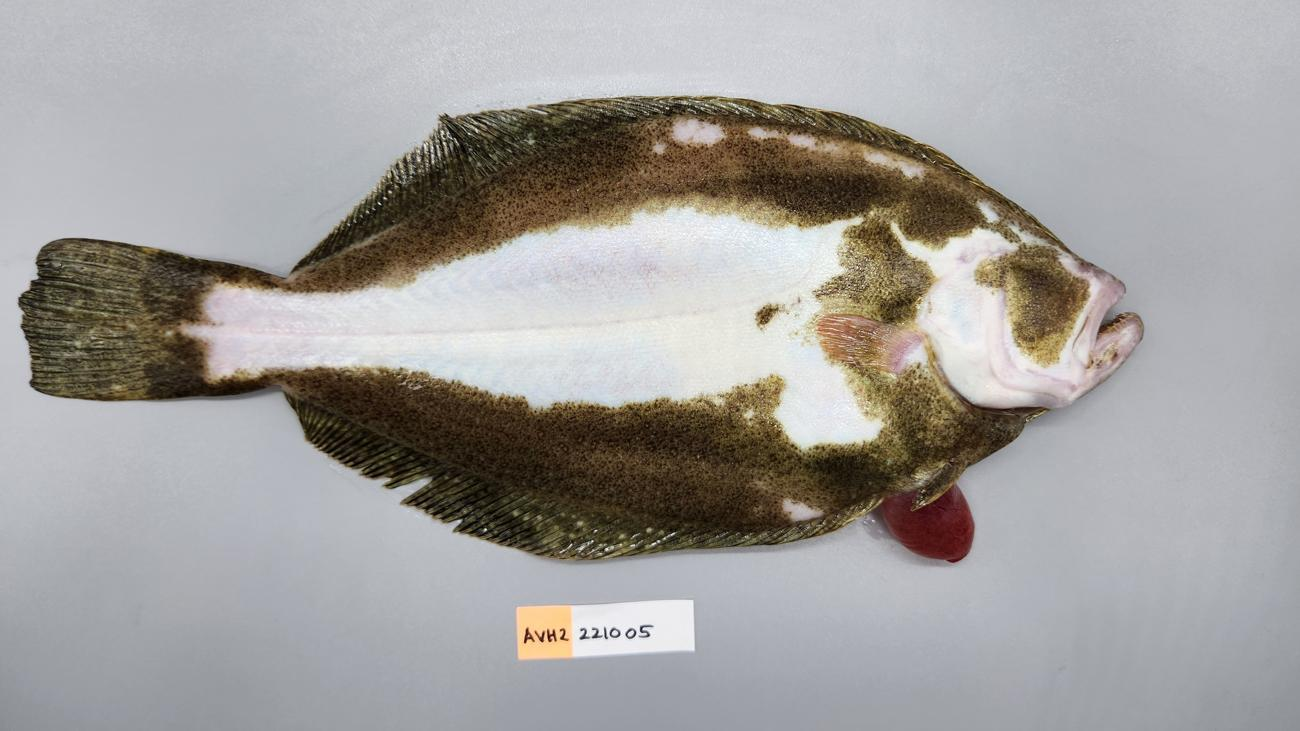VIDYH: (486, 114, 983, 232), (218, 259, 346, 295)
VIOUY: (22, 91, 1142, 564)
